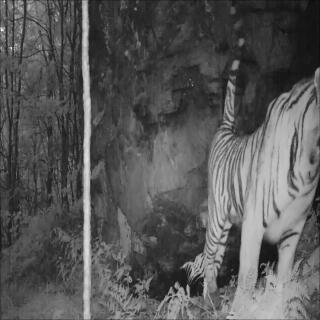Tiger: (203, 21, 320, 316)
